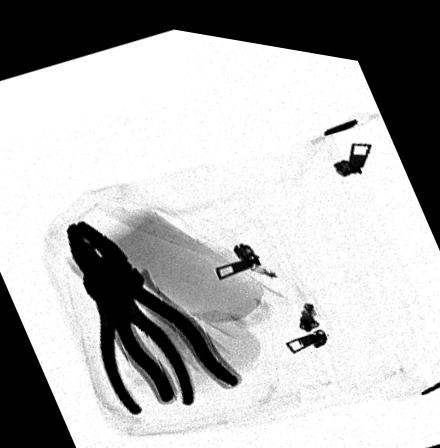Pliers: (58, 212, 243, 403), (79, 254, 197, 413)
